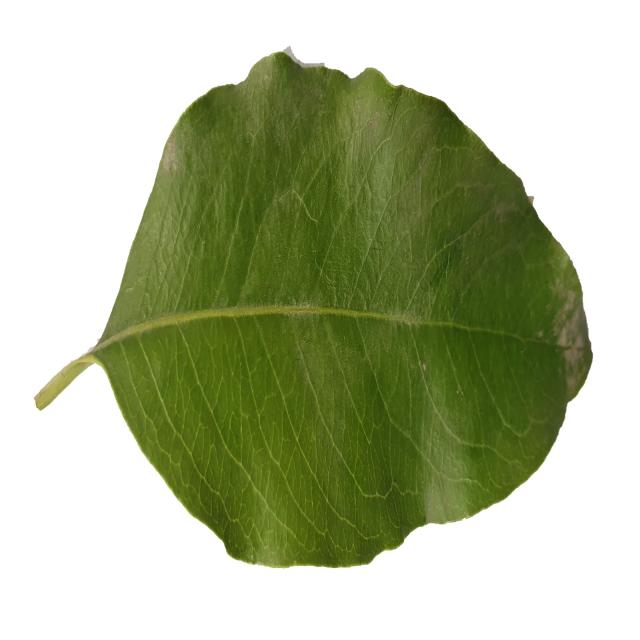Medicinal-Sandalwood: (34, 43, 592, 573)
